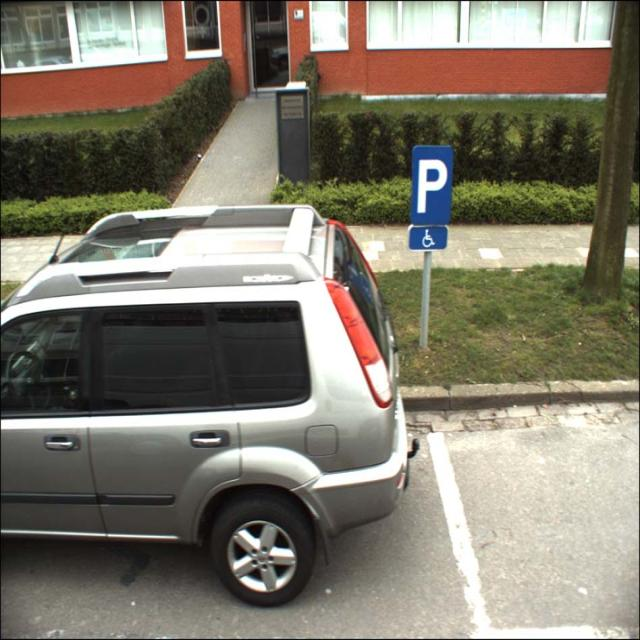park: (412, 147, 452, 226)
